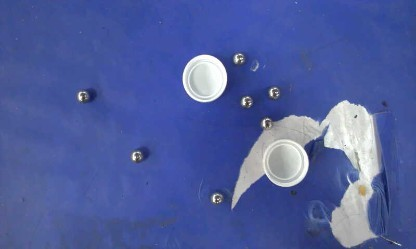ironball: (130, 149, 144, 162), (76, 89, 89, 102), (232, 52, 245, 65), (260, 117, 273, 130), (267, 86, 280, 99), (240, 95, 253, 108), (210, 192, 223, 204)
